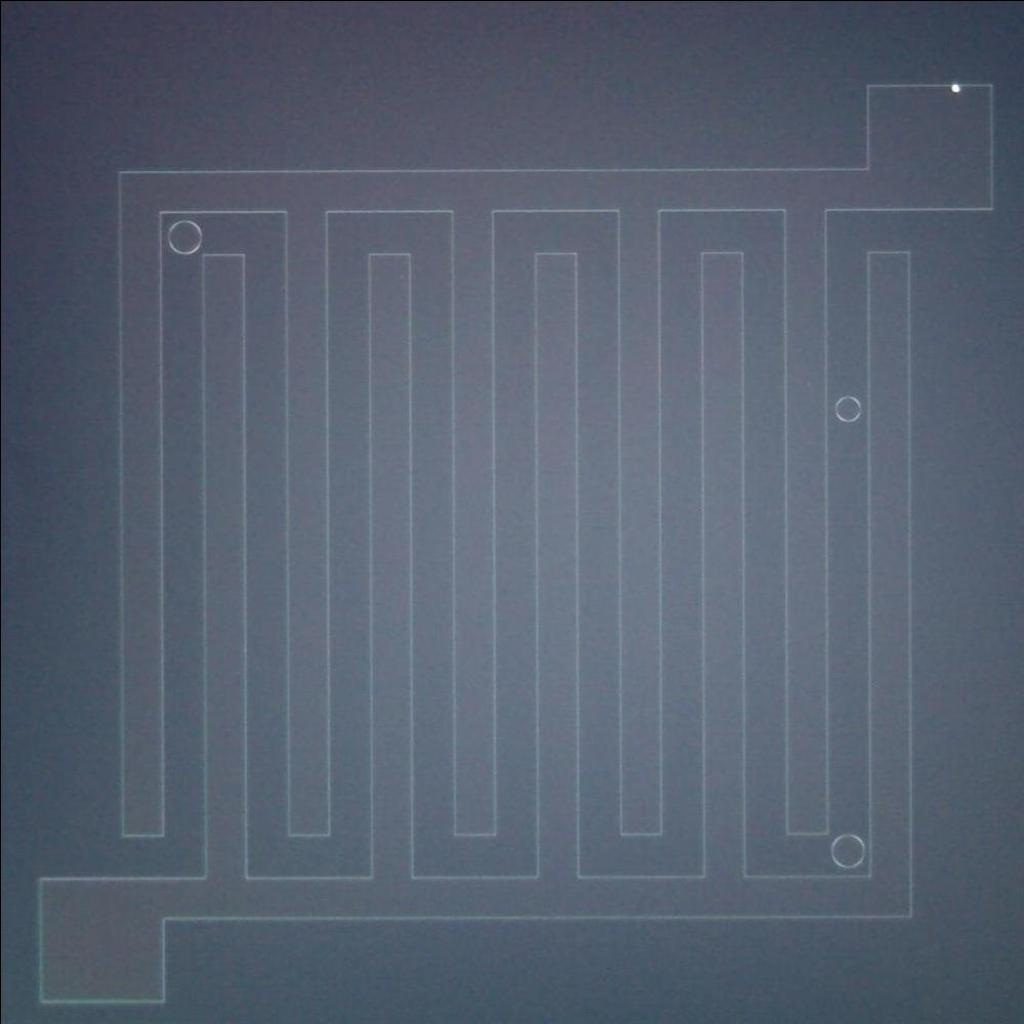circle: (826, 828, 872, 872), (160, 214, 204, 258), (827, 392, 868, 422)
spot: (945, 77, 966, 96)
